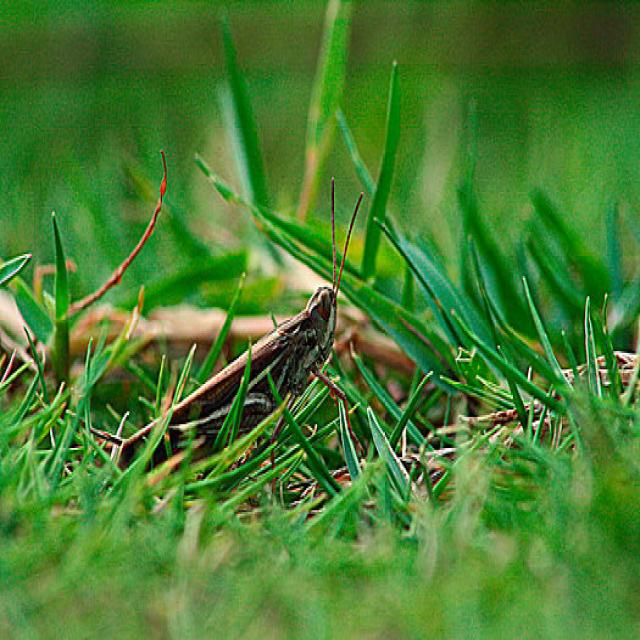ZhaMeng: (102, 294, 364, 474)
